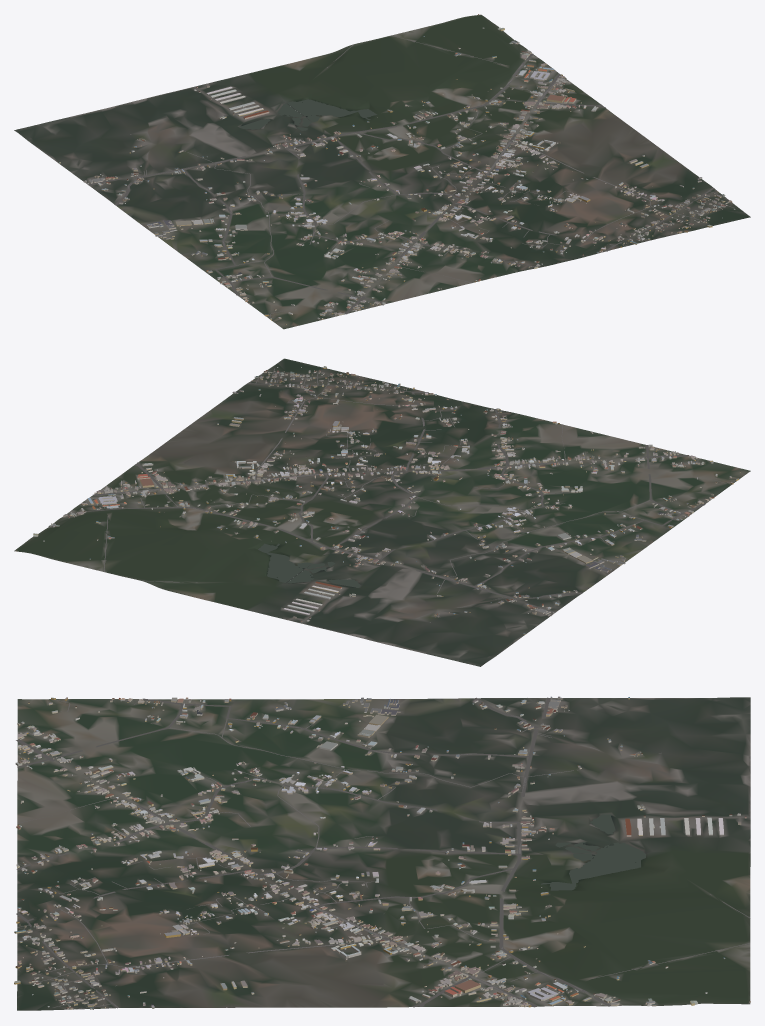
The picture shows the model from 3 angles, top to bottom: view 1: azimuth 30°, elevation 25°; view 2: azimuth 150°, elevation 25°; view 3: azimuth 270°, elevation 25°; orthographic projection. The views are drawn at different scales.
Visible parts, largest first — view 1: ground, buildings, roads, water; view 2: ground, buildings, roads, water; view 3: ground, buildings, roads, water.
Boxes of the visible parts, x1,y1,x2,y2 form: ground: (14,14,750,329); buildings: (58,14,735,324); roads: (88,35,733,317); water: (239,99,377,130); ground: (14,358,750,666); buildings: (16,366,740,634); roads: (67,368,734,622); water: (258,543,360,587); ground: (17,697,750,1010); buildings: (14,696,750,1009); roads: (16,697,750,1009); water: (541,814,645,890).
Size of the model in its own units: 2819 by 43.7 by 2816.
